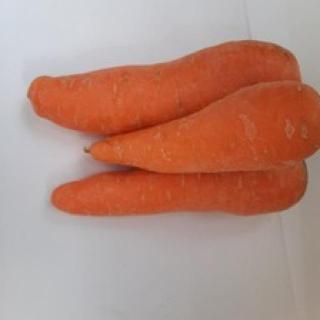carrot: (21, 41, 304, 136), (83, 79, 320, 175), (48, 164, 314, 218)
